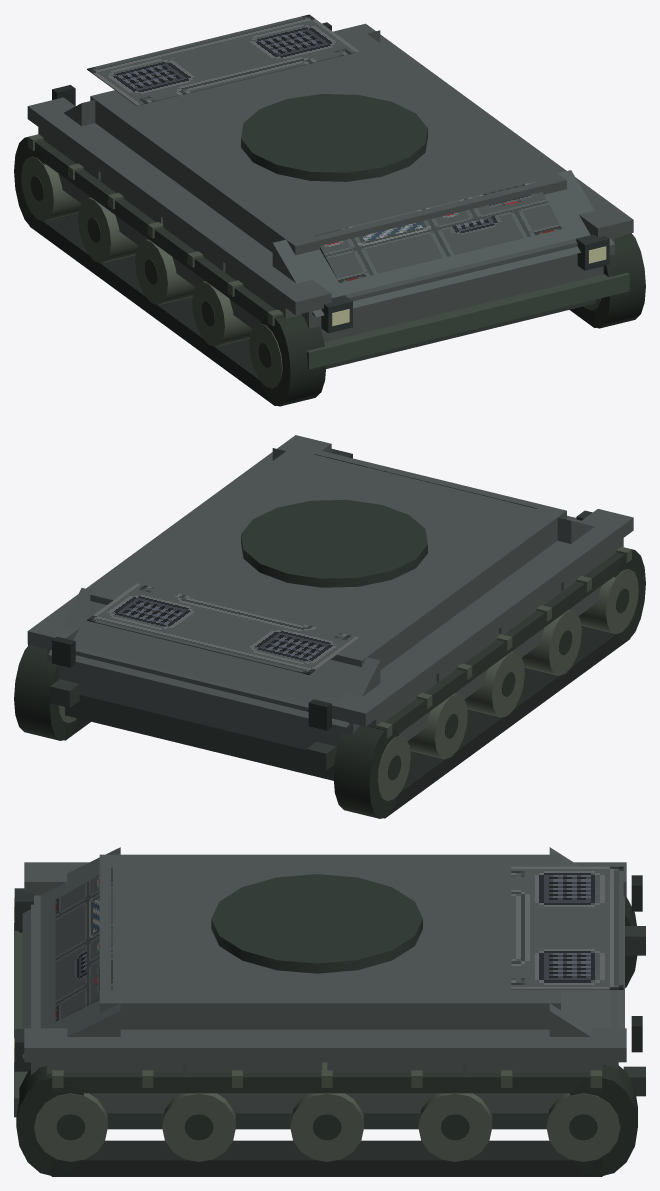
File: CMU3DReduxVehicleTank.glb
3 renders of one model, top to bottom at view 1: azimuth 30°, elevation 25°; view 2: azimuth 150°, elevation 25°; view 3: azimuth 270°, elevation 25°, orthographic. The views are drawn at different scales.
Parts seen in each view (by area): view 1: fighting compartment, track fender (×2), fixed turret race, engine deck, road wheel (×5), glacis finish, lower armored hull, sloped glacis, track return (×3), front towing beam, lower track run, upper track run (+4 smaller); view 2: fighting compartment, track fender (×2), fixed turret race, rear engine armor, engine deck, lower armored hull, road wheel (×5), track return (×3), lower track run, sealed belly, upper track run, side skirt panel (×4) (+3 smaller); view 3: fighting compartment, track fender (×2), road wheel (×5), fixed turret race, lower track run, engine deck, side skirt panel (×4), upper track run, track return (×3), glacis finish, sloped glacis, sealed belly (+6 smaller).
Boxes of the visible parts, x1,y1,x2,y2 form: fighting compartment: (90,30,566,255); track fender (×2): (27,23,633,314); fixed turret race: (241,94,427,181); engine deck: (87,14,359,105); road wheel (×5): (21,156,282,388); glacis finish: (314,181,561,282); lower armored hull: (301,235,614,342); sloped glacis: (272,170,614,317); track return (×3): (14,137,645,406); front towing beam: (306,272,629,369); lower track run: (29,213,275,405); upper track run: (29,140,283,328); fighting compartment: (90,444,566,669); track fender (×2): (27,435,633,726); fixed turret race: (241,499,427,587); rear engine armor: (48,588,380,727); engine deck: (87,583,359,674); lower armored hull: (47,515,580,751); road wheel (×5): (377,569,638,800); track return (×3): (14,549,645,818); lower track run: (384,626,629,818); sealed belly: (65,695,334,780); upper track run: (367,552,624,740); side skirt panel (×4): (367,538,623,740); fighting compartment: (99,854,560,1029); track fender (×2): (24,862,626,1062); road wheel (×5): (34,1093,620,1161); fixed turret race: (211,874,422,973); lower track run: (51,1140,602,1176); engine deck: (511,866,623,989); side skirt panel (×4): (47,1062,602,1113); upper track run: (51,1063,602,1093); track return (×3): (16,896,637,1176); glacis finish: (55,867,112,1021); sloped glacis: (22,847,120,1058); sealed belly: (107,1113,546,1129).
Size of the model in its own units: 2.91 by 1.11 by 3.94.
17 materials, 2 textured.
